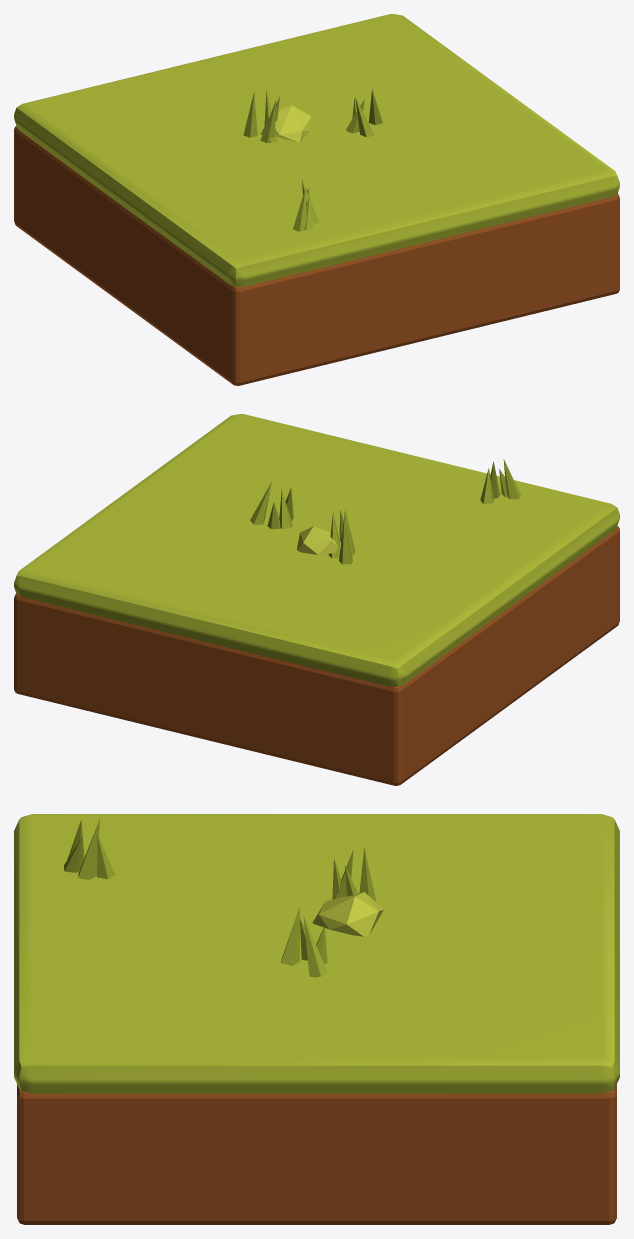
Rendered from tile_grass.glb.
3 renders of one model, top to bottom at view 1: azimuth 30°, elevation 25°; view 2: azimuth 150°, elevation 25°; view 3: azimuth 270°, elevation 25°, orthographic. The views are drawn at different scales.
Visible parts, largest first — view 1: grass_cap, grass_body, g0_clod0; view 2: grass_cap, grass_body, g0_clod0; view 3: grass_cap, grass_body, g0_clod0, g0t1_blade3, g0t0_blade2, g0t1_blade2.
Boxes of the visible parts, bbox=[...] form: grass_cap: bbox=[14, 14, 619, 286]; grass_body: bbox=[14, 126, 619, 385]; g0_clod0: bbox=[275, 105, 311, 142]; grass_cap: bbox=[14, 414, 619, 686]; grass_body: bbox=[14, 526, 619, 785]; g0_clod0: bbox=[297, 526, 340, 554]; grass_cap: bbox=[14, 814, 619, 1093]; grass_body: bbox=[17, 1084, 616, 1224]; g0_clod0: bbox=[312, 892, 383, 936]; g0t1_blade3: bbox=[303, 916, 327, 977]; g0t0_blade2: bbox=[78, 819, 99, 879]; g0t1_blade2: bbox=[281, 907, 299, 965].
Size of what is drawn, in the model's own units: 2.02 by 0.8372 by 2.02.
